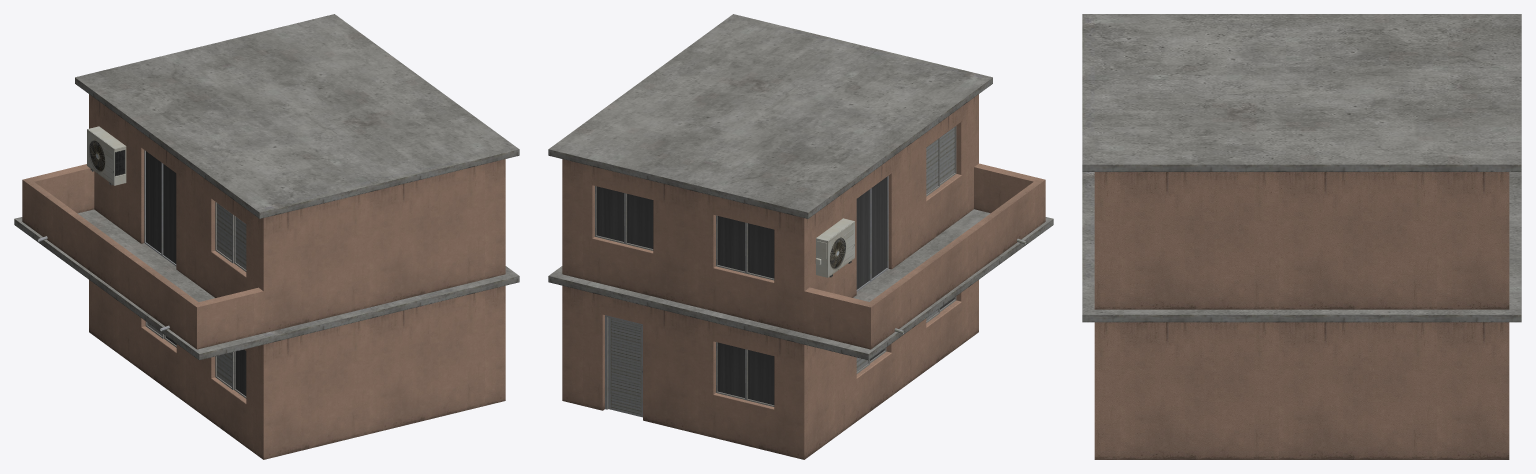
3 views of the same model, side by side, from view 1: azimuth 30°, elevation 25°; view 2: azimuth 150°, elevation 25°; view 3: azimuth 270°, elevation 25° (orthographic). The views are drawn at different scales.
Parts seen in each view (by area): view 1: Object_5, Object_3, Object_4, Object_2; view 2: Object_5, Object_3, Object_4, Object_2; view 3: Object_5, Object_3.
Boxes of the visible parts, <box> form: Object_5: <box>22,94,505,459</box>; Object_3: <box>14,14,519,360</box>; Object_4: <box>37,150,246,398</box>; Object_2: <box>87,126,126,185</box>; Object_5: <box>562,94,1045,459</box>; Object_3: <box>548,14,1053,360</box>; Object_4: <box>595,126,1026,417</box>; Object_2: <box>815,218,854,277</box>; Object_5: <box>1094,172,1509,459</box>; Object_3: <box>1082,14,1521,322</box>.
Size of the model in its own units: 5.39 by 4 by 5.29.
4 materials, 4 textured.
